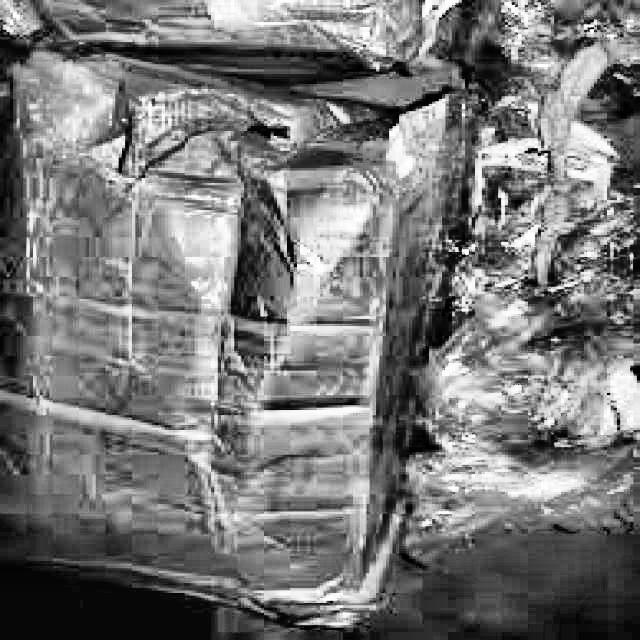box: (6, 45, 444, 618)
hole: (30, 65, 280, 181)
